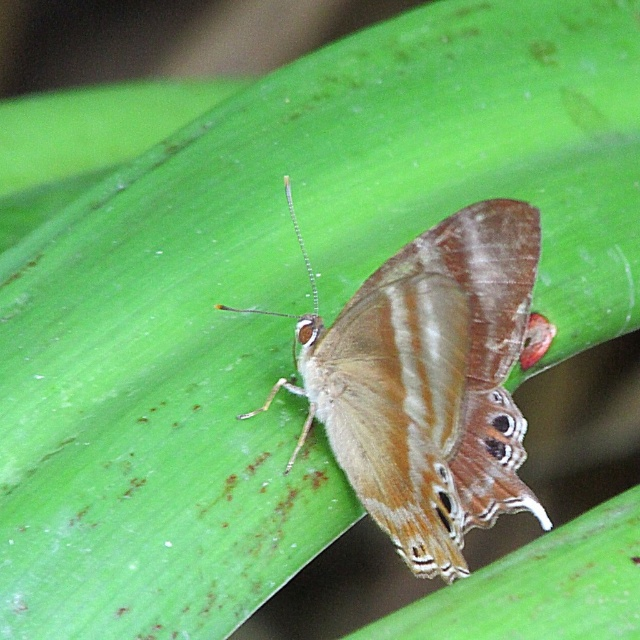Butterfly: (209, 176, 574, 556)
